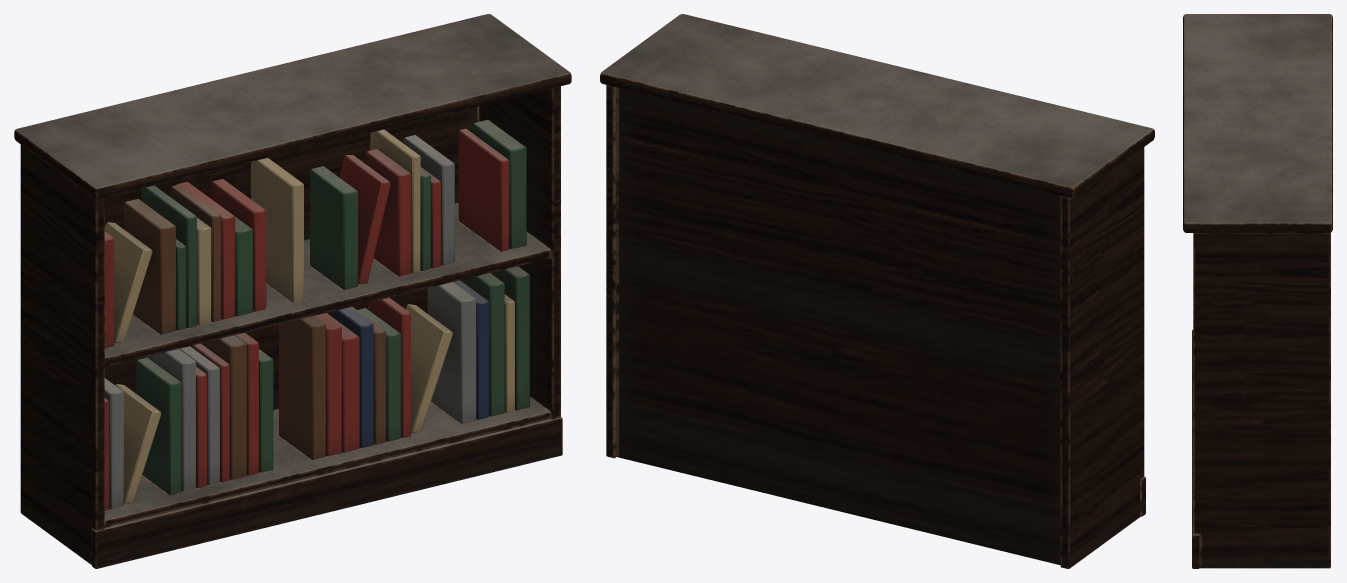
File: bookcase_low.glb
3 renders of one model, left to right at view 1: azimuth 30°, elevation 25°; view 2: azimuth 150°, elevation 25°; view 3: azimuth 270°, elevation 25°, orthographic. The views are drawn at different scales.
Visible parts, largest first — view 1: bookcase_low; view 2: bookcase_low; view 3: bookcase_low.
Part boxes in pixels (bbox=[...]): bookcase_low: bbox=[14, 14, 571, 568]; bookcase_low: bbox=[600, 14, 1154, 568]; bookcase_low: bbox=[1183, 14, 1332, 568].
Size of the model in its own units: 1.23 by 0.95 by 0.37.
Materials: 1 (1 with a texture image).
